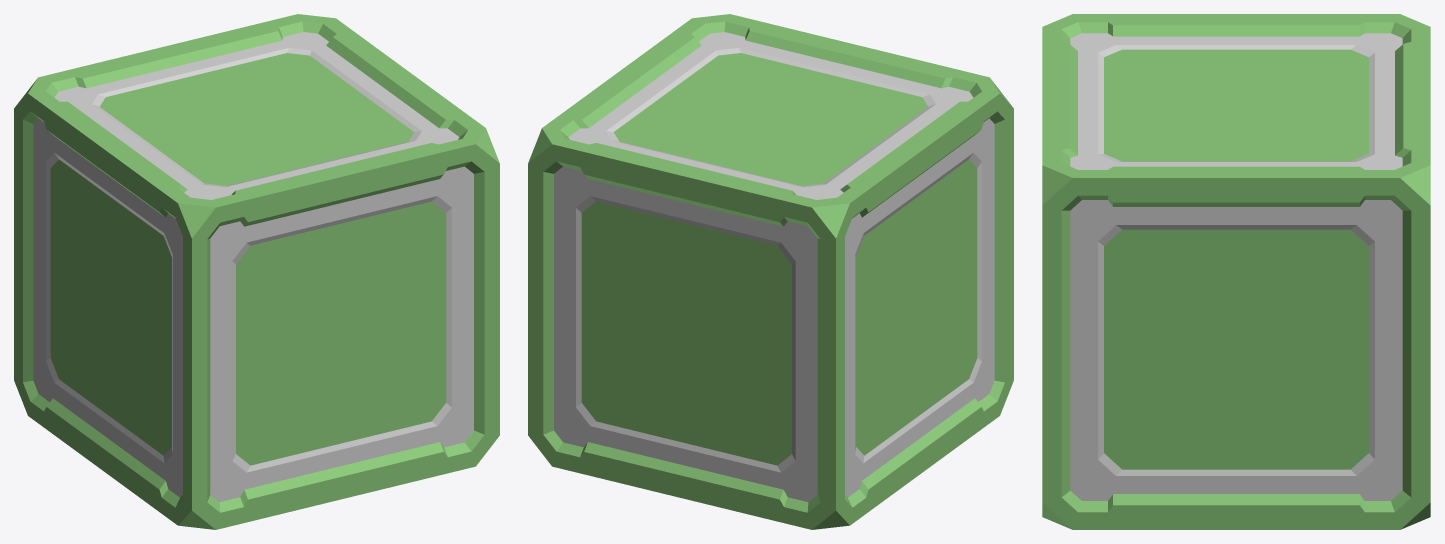
Rendered from crate green big.fbx.
The picture shows the model from 3 angles, left to right: view 1: azimuth 30°, elevation 25°; view 2: azimuth 150°, elevation 25°; view 3: azimuth 270°, elevation 25°; orthographic projection. The views are drawn at different scales.
Visible parts, largest first — view 1: Crate Large.002; view 2: Crate Large.002; view 3: Crate Large.002.
Part boxes in pixels (box(x1,y1,x2,y2)): Crate Large.002: box(14, 14, 499, 529); Crate Large.002: box(528, 14, 1013, 529); Crate Large.002: box(1042, 14, 1430, 529).
Size of the model in its own units: 100 by 100 by 100.
